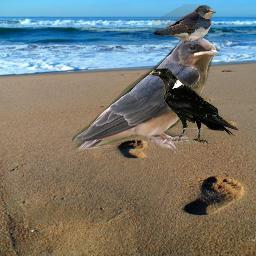Crow: (149, 68, 239, 144)
Swallow: (72, 35, 221, 155), (152, 4, 216, 44)
